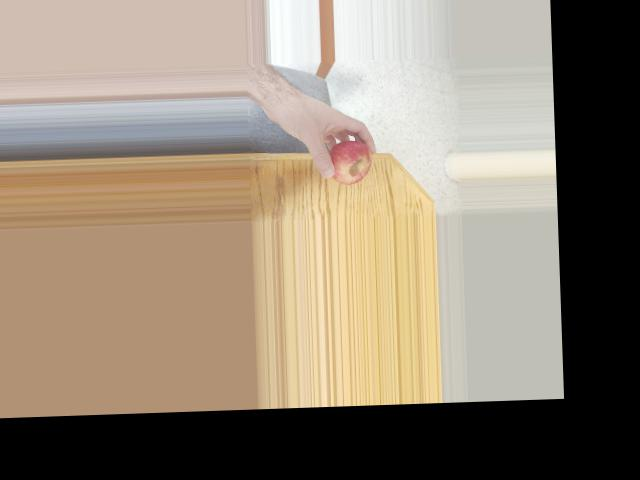apple: (320, 138, 376, 184)
